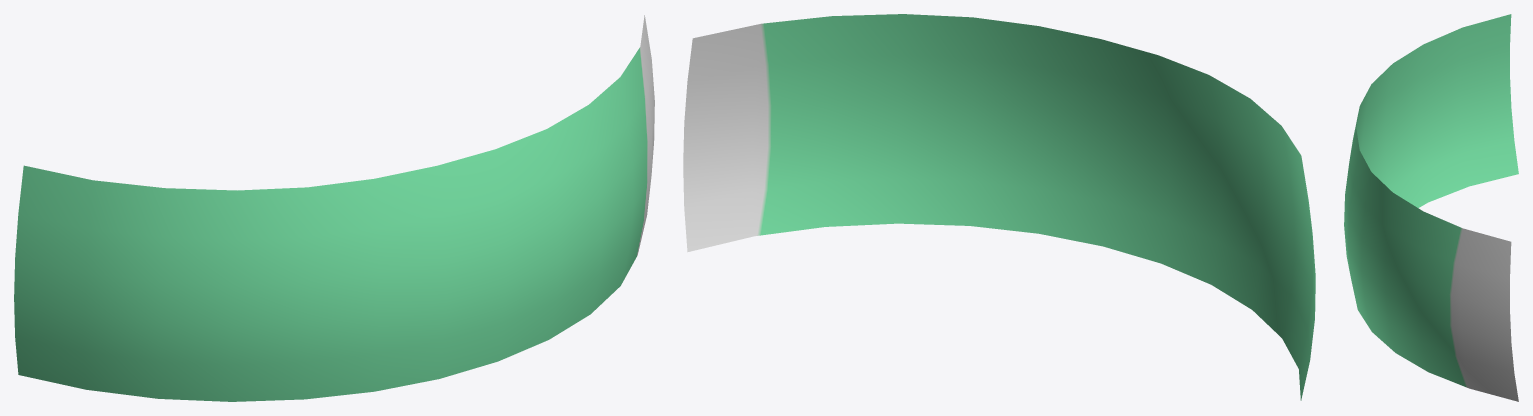
Rendered from Error Robot Face.fbx.
3 renders of one model, left to right at view 1: azimuth 30°, elevation 25°; view 2: azimuth 150°, elevation 25°; view 3: azimuth 270°, elevation 25°, orthographic. The views are drawn at different scales.
Visible parts, largest first — view 1: Error Robot; view 2: Error Robot; view 3: Error Robot.
Boxes of the visible parts, x1,y1,x2,y2 form: Error Robot: (14,15,654,401); Error Robot: (683,14,1315,400); Error Robot: (1344,14,1518,401).
Bounding box in the file's own units: 55.82 × 17.76 × 17.57.
